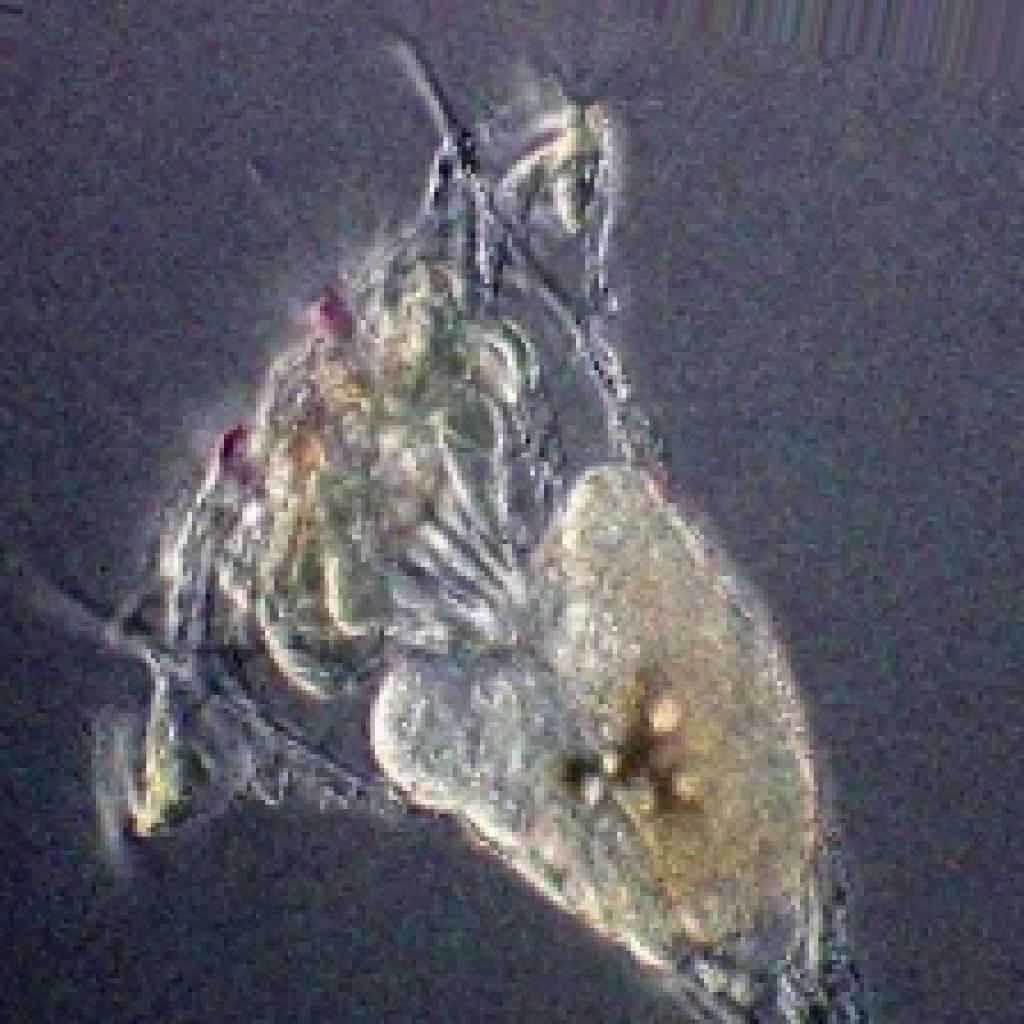Rotifer: (3, 44, 919, 1024)
